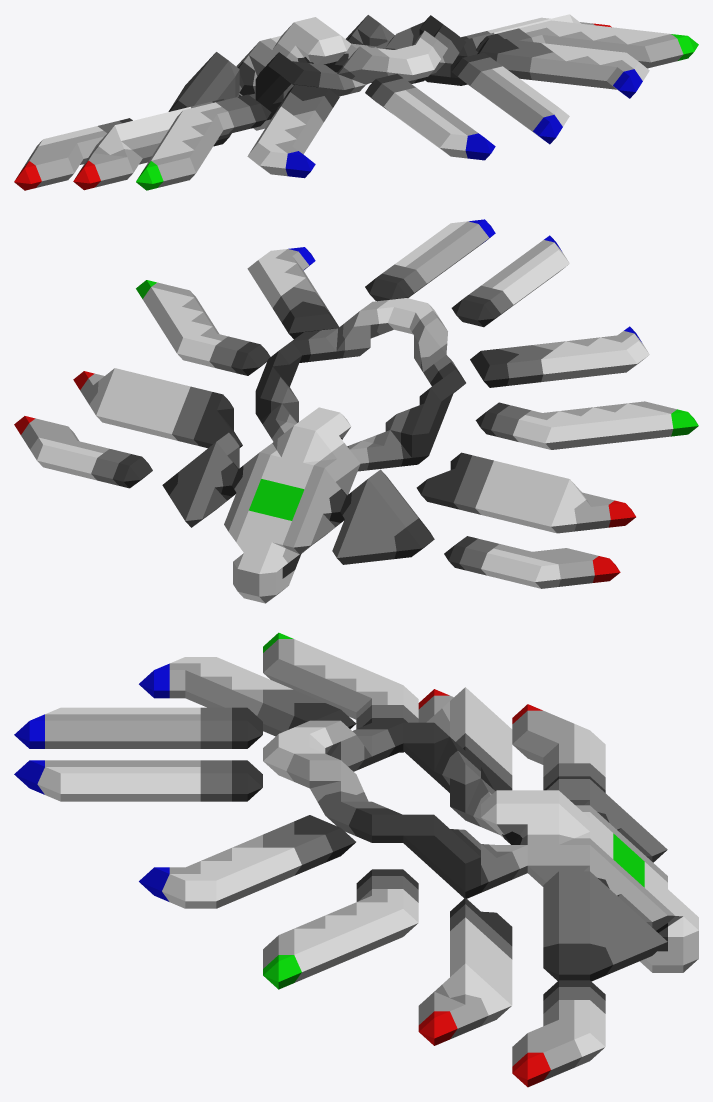
File: ship_auron_fighter_specialist.fbx
The picture shows the model from 3 angles, top to bottom: view 1: azimuth 30°, elevation 25°; view 2: azimuth 150°, elevation 25°; view 3: azimuth 270°, elevation 25°; orthographic projection. The views are drawn at different scales.
Parts seen in each view (by area): view 1: ship_auron_fighter_specialist.mc; view 2: ship_auron_fighter_specialist.mc; view 3: ship_auron_fighter_specialist.mc.
Boxes of the visible parts, x1=… form: ship_auron_fighter_specialist.mc: x1=14, y1=14, x2=698, y2=190; ship_auron_fighter_specialist.mc: x1=14, y1=219, x2=698, y2=603; ship_auron_fighter_specialist.mc: x1=14, y1=632, x2=698, y2=1087.
Bounding box in the file's own units: 2800 × 800 × 2200.
